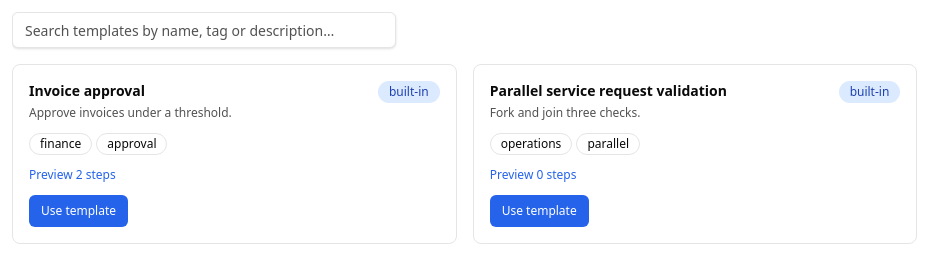
Test: TemplateGallery › filters by search query
Expected: the heading "Invoice approval" is shown, [29,81,145,100]
Type "parallel" into the search field labelled "Search templates".
click(204, 30); type("parallel")  # box [12,12,396,48]
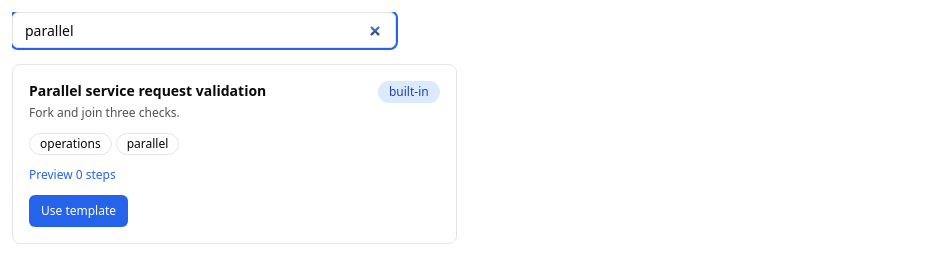
Expected: the heading "Parallel service request validation" is shown, [29,81,266,101]
Expected: the heading "Invoice approval" is gone
